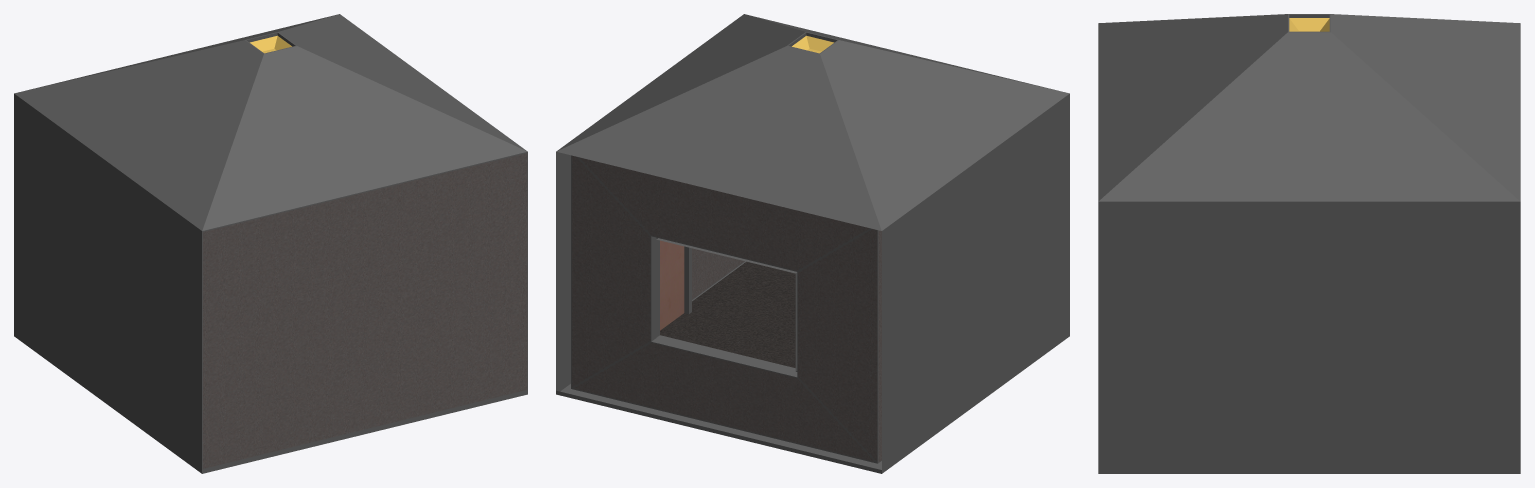
The model's file is smallRoom.obj.
3 views of the same model, side by side, from view 1: azimuth 30°, elevation 25°; view 2: azimuth 150°, elevation 25°; view 3: azimuth 270°, elevation 25° (orthographic). The views are drawn at different scales.
Visible parts, largest first — view 1: Cube; view 2: Cube; view 3: Cube.
Part boxes in pixels (bbox=[...]): Cube: bbox=[14, 14, 527, 473]; Cube: bbox=[556, 14, 1069, 473]; Cube: bbox=[1098, 14, 1520, 473].
Bounding box in the file's own units: 12.02 × 11.37 × 12.02.
